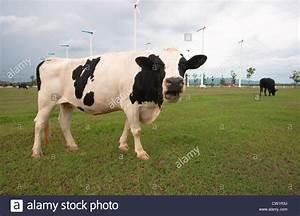cow: (30, 46, 207, 160), (259, 77, 278, 96)
